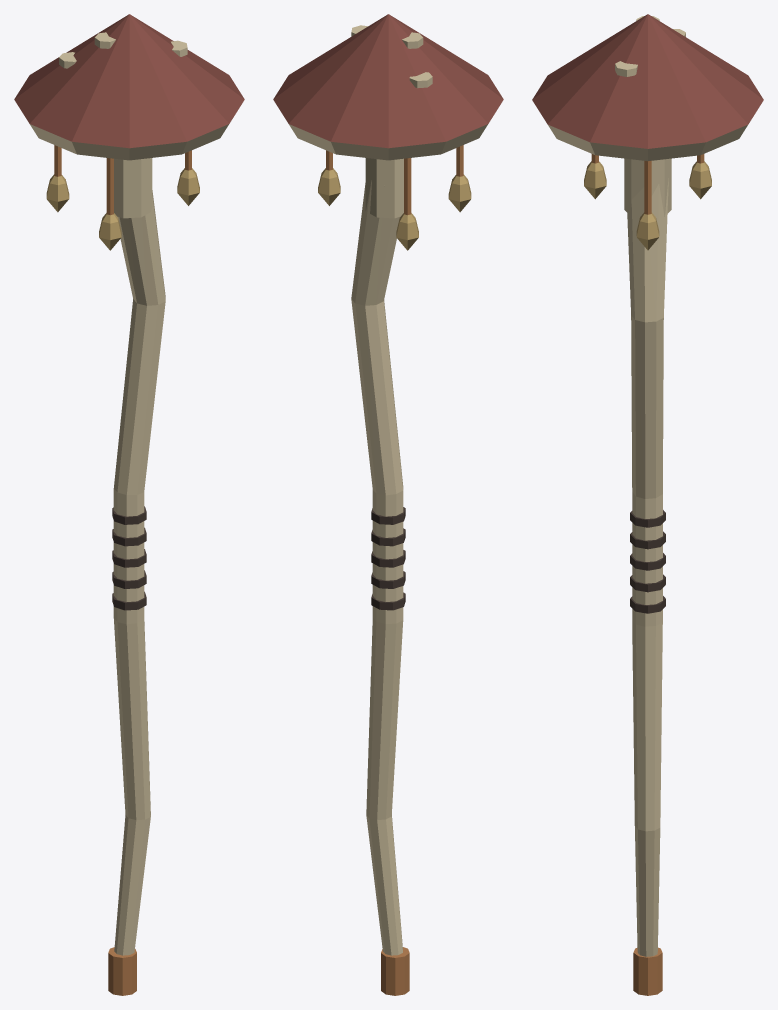
File: AEW_Staff_FungalCenser.fbx
3 views of the same model, side by side, from view 1: azimuth 30°, elevation 25°; view 2: azimuth 150°, elevation 25°; view 3: azimuth 270°, elevation 25° (orthographic).
Visible parts, largest first — view 1: AEW_Staff_FungalCenser; view 2: AEW_Staff_FungalCenser; view 3: AEW_Staff_FungalCenser.
Boxes of the visible parts, left/top/right/bottom form: AEW_Staff_FungalCenser: left=14, top=14, right=244, bottom=995; AEW_Staff_FungalCenser: left=273, top=14, right=503, bottom=995; AEW_Staff_FungalCenser: left=532, top=14, right=763, bottom=995.
Bounding box in the file's own units: 0.44 × 2.05 × 0.44.
